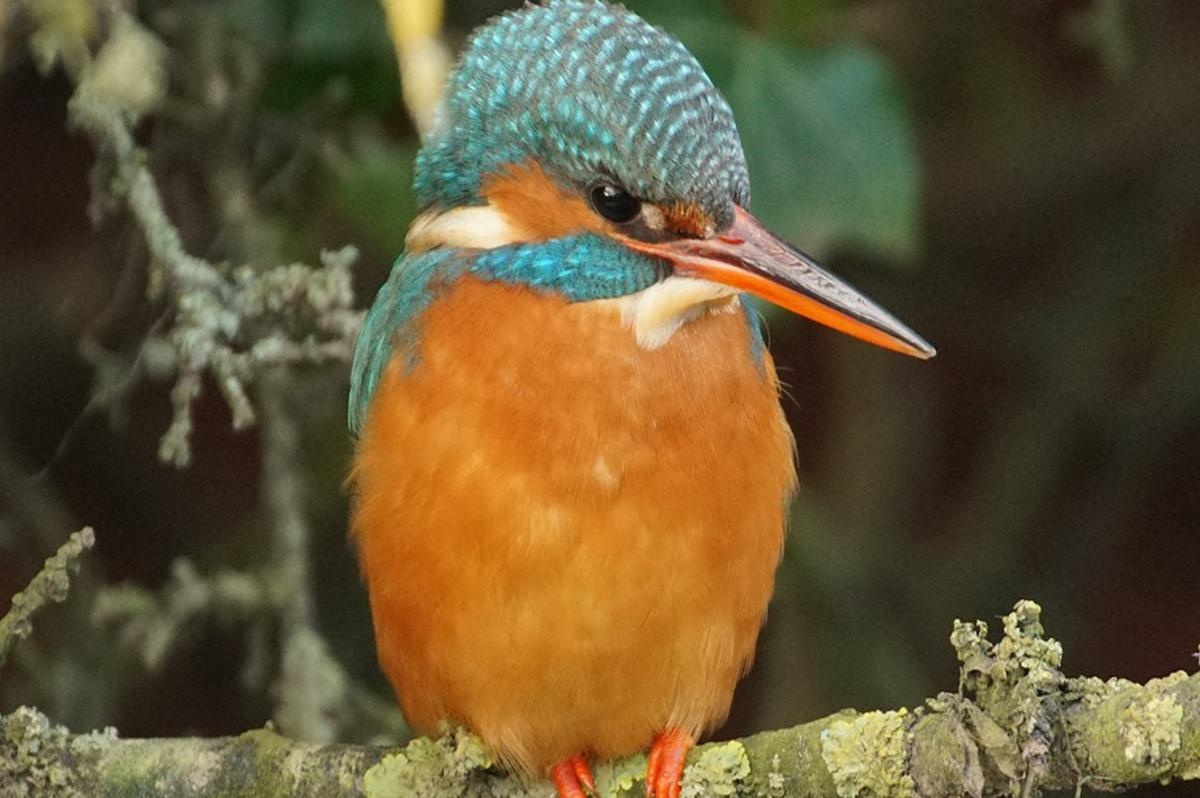kingfisher: (380, 8, 944, 753)
